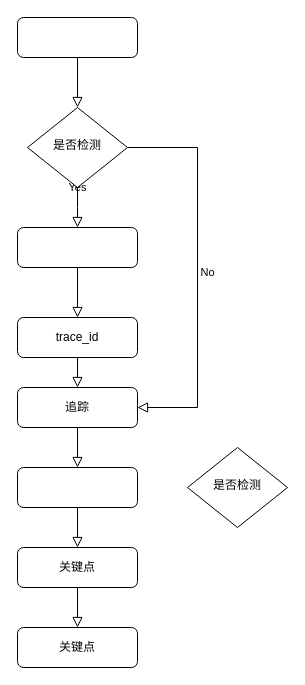
This 305x685 diagram has some shape labels left out. The shapes that lost their labels are listed below. From the top down, each one's box as (x1, y1, x2, y2) in pixels, then its label:
(16, 16, 138, 58): 原图
(16, 226, 138, 268): 检测
(16, 466, 138, 508): 分类
